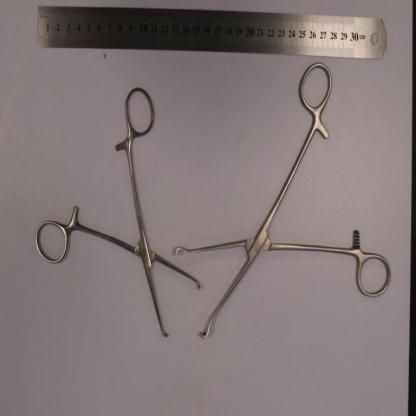8 Babcock Tissue Forceps: (174, 59, 394, 339)
Allis Tissue Forceps: (35, 81, 201, 337)
